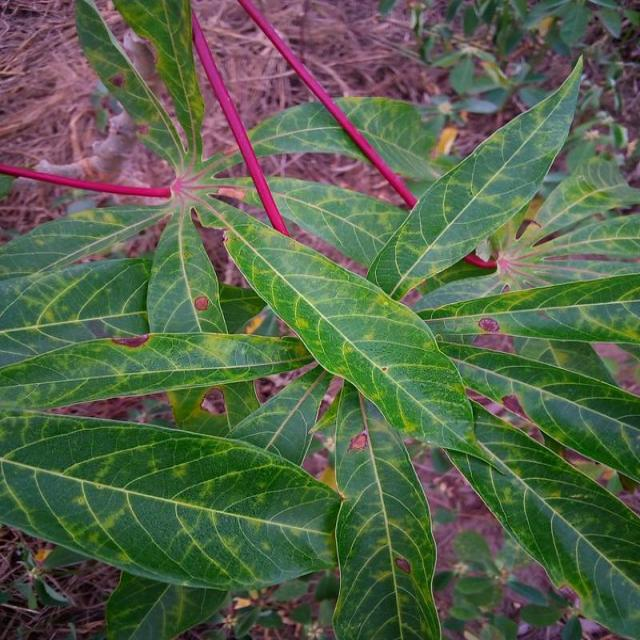cassava leaf: (1, 1, 638, 637), (198, 191, 476, 454), (364, 52, 584, 301)
